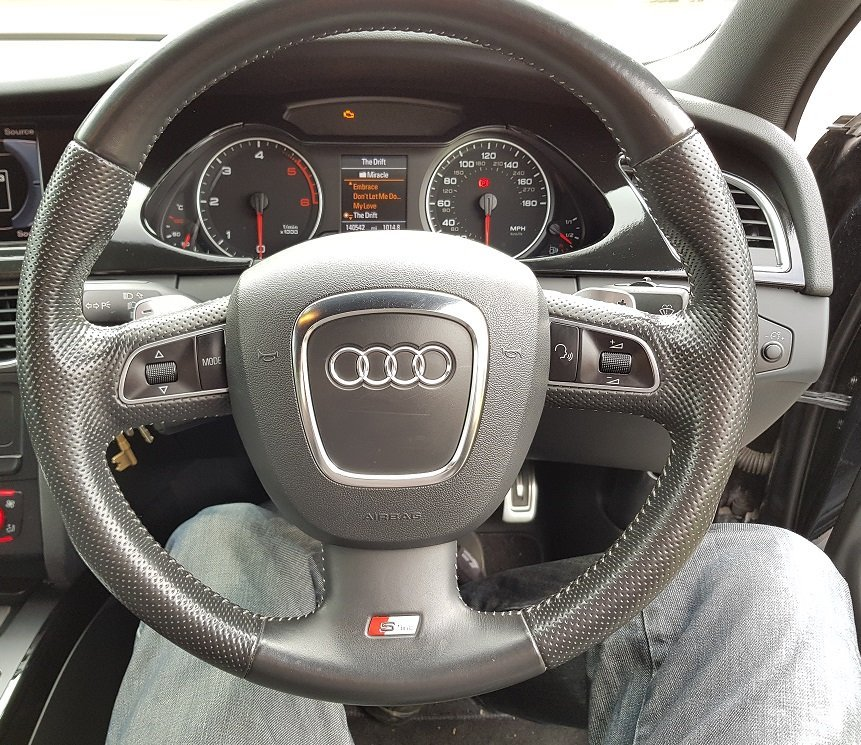audi: (322, 342, 458, 397)
